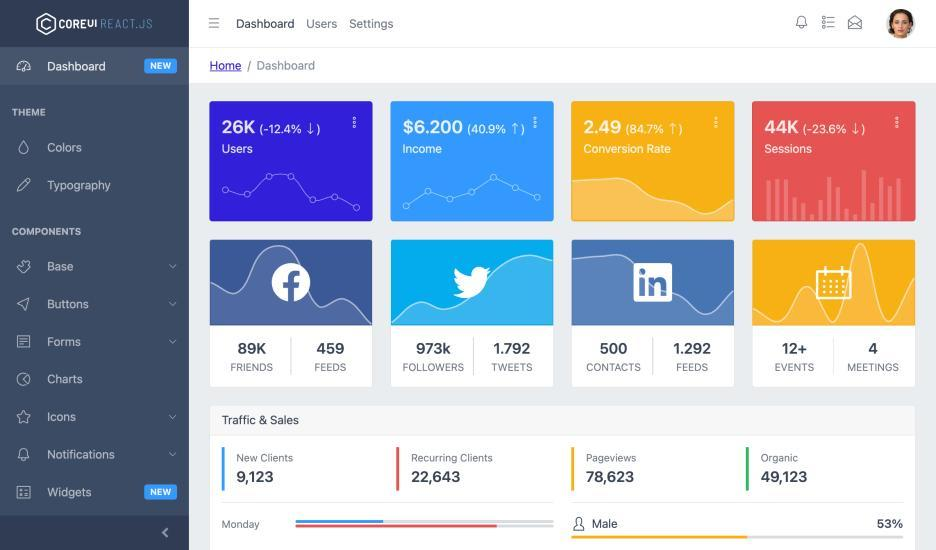icon: (14, 483, 36, 505), (846, 13, 867, 35), (15, 333, 35, 355), (791, 13, 811, 33), (15, 295, 36, 314), (16, 408, 36, 427), (14, 446, 33, 466), (17, 137, 35, 158), (15, 371, 34, 390), (16, 59, 36, 76), (16, 259, 34, 277), (15, 176, 32, 195), (206, 16, 225, 33), (821, 15, 838, 32), (167, 335, 181, 348), (166, 263, 180, 274), (169, 413, 180, 424), (169, 299, 179, 311), (168, 451, 180, 459)
